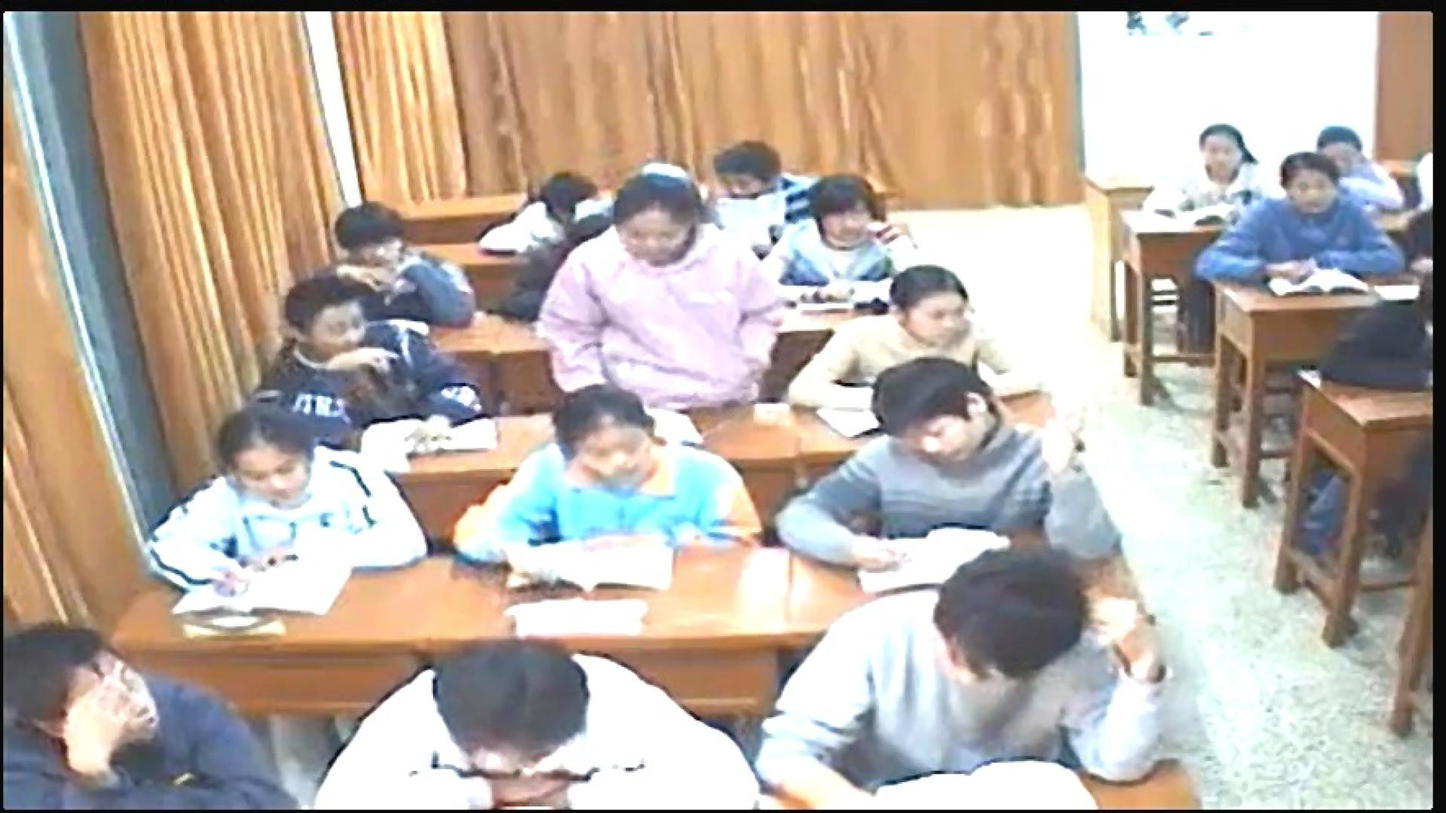Look Around: (272, 282, 472, 426)
Stand Up: (578, 177, 757, 401)
Wave: (1094, 601, 1170, 813), (1044, 398, 1111, 540), (70, 686, 134, 807)
